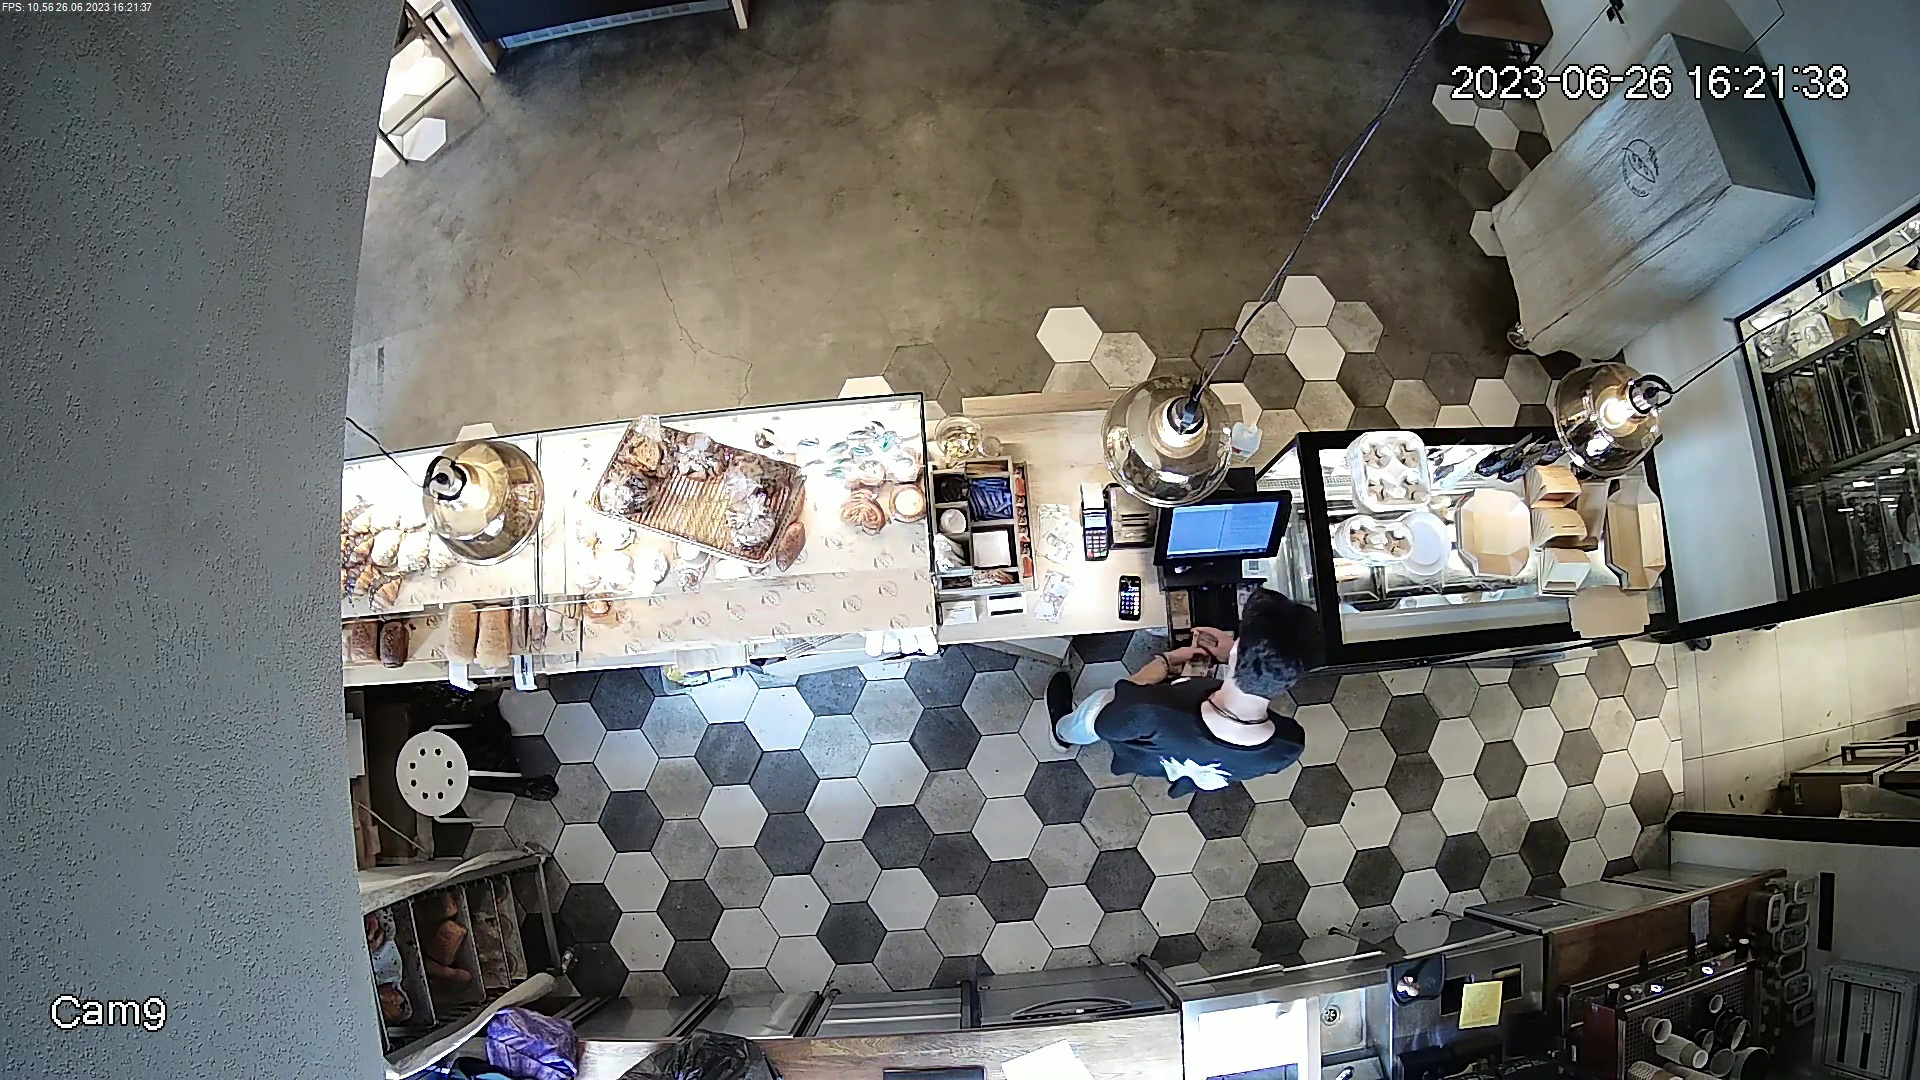barcounter: (352, 430, 1665, 670)
openedcash: (1149, 488, 1305, 667)
